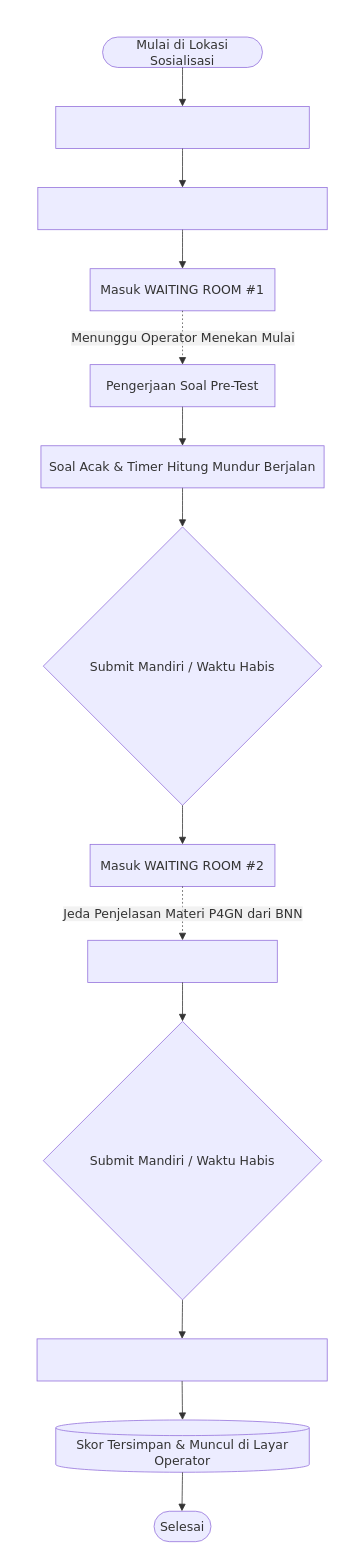
This 341x1555 diagram has some shape labels left out. Here are the shapes that lost their labels. From the top down, the centre of each, then its label:
the point at 182,127: Buka Tautan / Pindai QR di Proyektor
the point at 182,208: Form Masuk: Ketik 6-Digit PIN, Nama, Kelas
the point at 182,961: Pengerjaan Soal Post-Test
the point at 181,1359: Halaman Konfirmasi & Ucapan Terima Kasih
